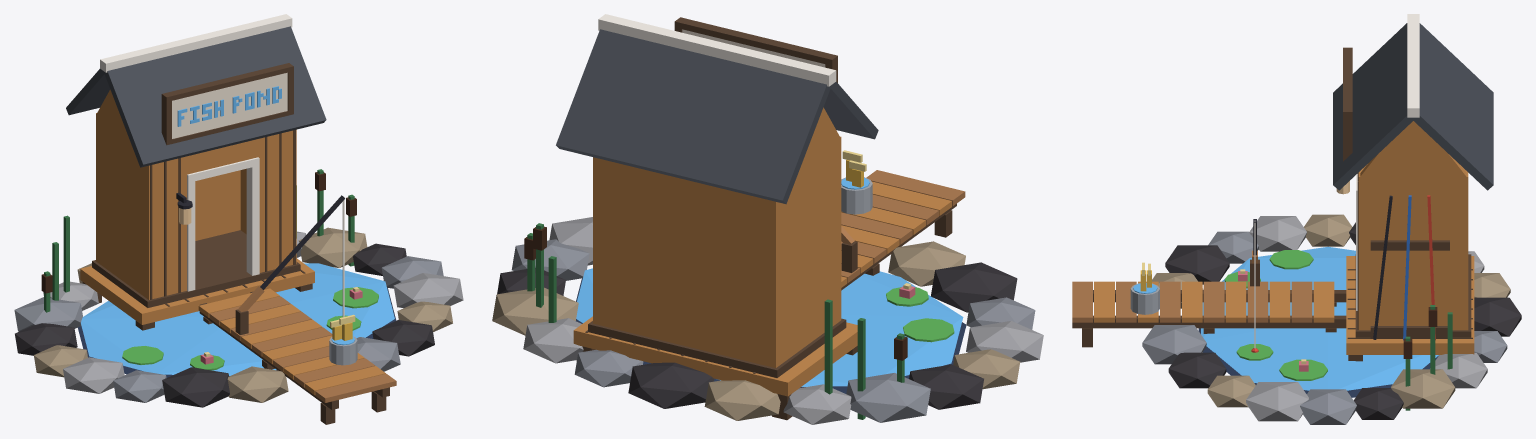
Rendered from CatCafe_Camp_Woods_FishingHut.glb.
3 views of the same model, side by side, from view 1: azimuth 30°, elevation 25°; view 2: azimuth 150°, elevation 25°; view 3: azimuth 270°, elevation 25° (orthographic). The views are drawn at different scales.
Visible parts, largest first — view 1: CatCafe_Camp_Woods_FishingHut, CatCafe_Camp_Woods_FishingHut_Water, CatCafe_Camp_Woods_FishingHut_Rod; view 2: CatCafe_Camp_Woods_FishingHut, CatCafe_Camp_Woods_FishingHut_Water; view 3: CatCafe_Camp_Woods_FishingHut, CatCafe_Camp_Woods_FishingHut_Water.
Boxes of the visible parts, bbox=[...] form: CatCafe_Camp_Woods_FishingHut: bbox=[14, 14, 463, 424]; CatCafe_Camp_Woods_FishingHut_Water: bbox=[81, 263, 394, 375]; CatCafe_Camp_Woods_FishingHut_Rod: bbox=[238, 195, 344, 317]; CatCafe_Camp_Woods_FishingHut: bbox=[492, 14, 1043, 424]; CatCafe_Camp_Woods_FishingHut_Water: bbox=[576, 268, 963, 386]; CatCafe_Camp_Woods_FishingHut: bbox=[1072, 14, 1521, 424]; CatCafe_Camp_Woods_FishingHut_Water: bbox=[1201, 246, 1438, 390].
Bounding box in the file's own units: 7.95 × 4.91 × 7.38.
1 material, 1 textured.
